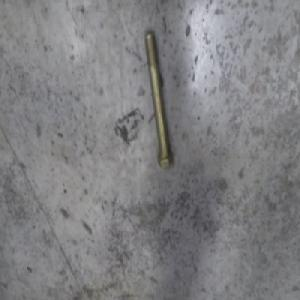Bolt: (138, 28, 172, 164)
